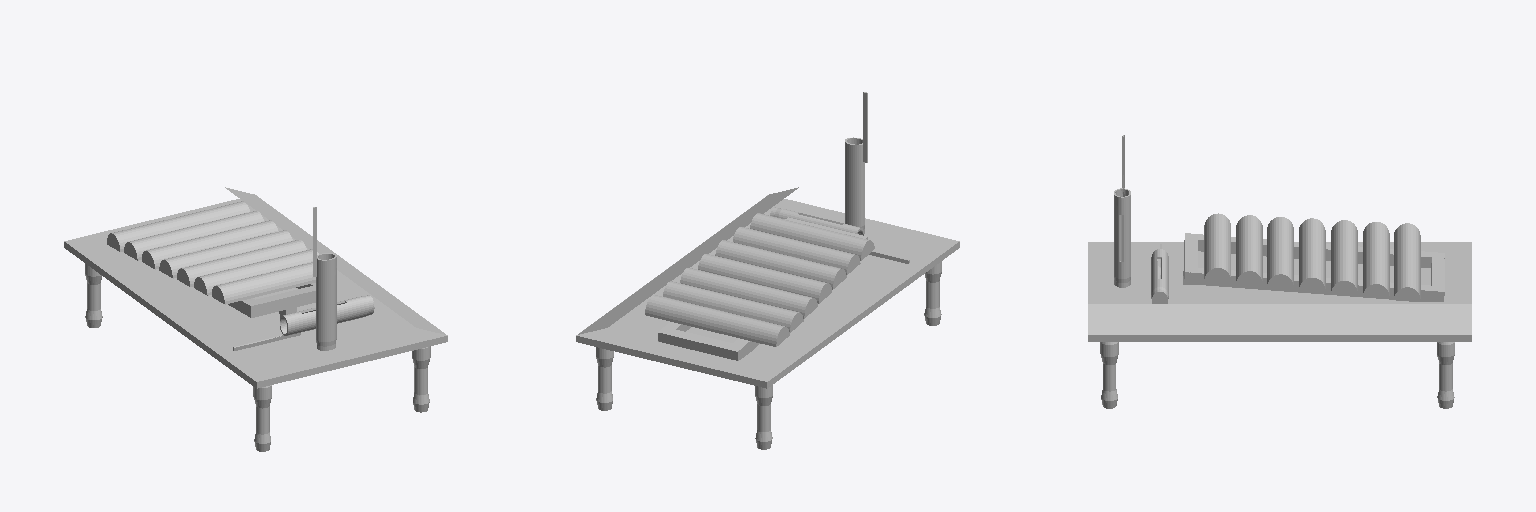
Rendered from jos.obj.
3 renders of one model, left to right at view 1: azimuth 30°, elevation 25°; view 2: azimuth 150°, elevation 25°; view 3: azimuth 270°, elevation 25°, orthographic.
Parts seen in each view (by area): view 1: Cylinder.002, Cube.000, Plane_Plane.003, Cylinder.037, Cylinder.000; view 2: Cube.000, Cylinder.002, Plane_Plane.003, Cylinder.037, Cylinder.000; view 3: Cube.000, Cylinder.002, Plane_Plane.003, Cylinder.037, Cylinder.000.
Part boxes in pixels (x1,y1,x2,y2): Cylinder.002: (64, 195, 447, 451); Cube.000: (107, 201, 318, 317); Plane_Plane.003: (225, 187, 445, 334); Cylinder.037: (313, 207, 336, 350); Cylinder.000: (233, 295, 374, 350); Cube.000: (645, 213, 874, 360); Cylinder.002: (576, 195, 959, 449); Plane_Plane.003: (578, 187, 798, 334); Cylinder.037: (845, 92, 867, 233); Cylinder.000: (770, 207, 909, 263); Cube.000: (1183, 213, 1444, 301); Cylinder.002: (1088, 242, 1471, 408); Plane_Plane.003: (1088, 304, 1471, 334); Cylinder.037: (1114, 135, 1130, 287); Cylinder.000: (1151, 244, 1168, 303).
Size of the model in its own units: 2.27 by 2.52 by 3.96.